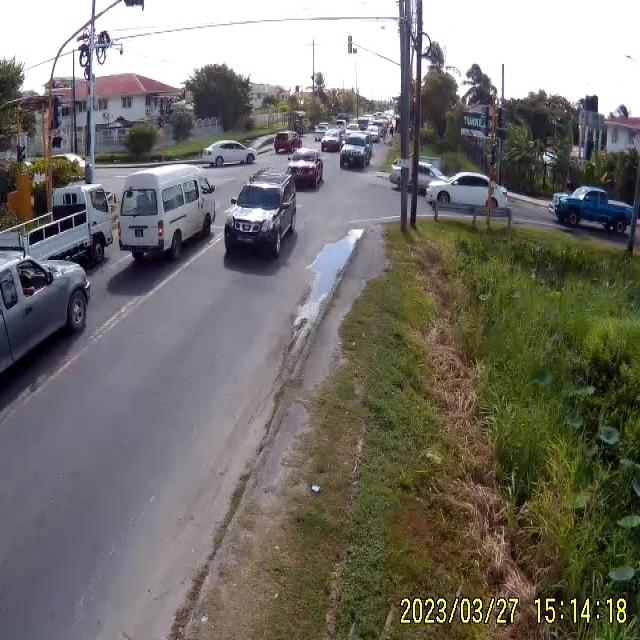car: (1, 251, 93, 384), (116, 164, 216, 265), (223, 172, 298, 255), (553, 189, 635, 234), (423, 173, 510, 211), (390, 160, 445, 196), (286, 153, 322, 192), (202, 142, 255, 168), (338, 139, 370, 170), (274, 130, 301, 155), (322, 132, 344, 152), (312, 124, 328, 139)
truck: (1, 182, 112, 272)
